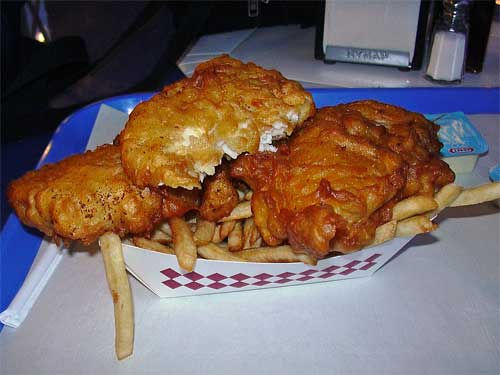fish: (10, 141, 199, 361), (227, 99, 457, 259), (119, 52, 315, 192)
